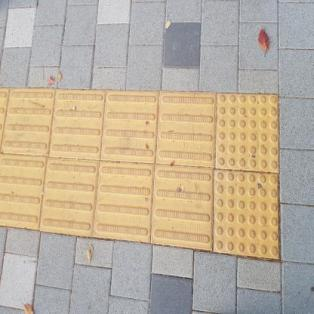Podoctatil: (0, 76, 288, 269)
